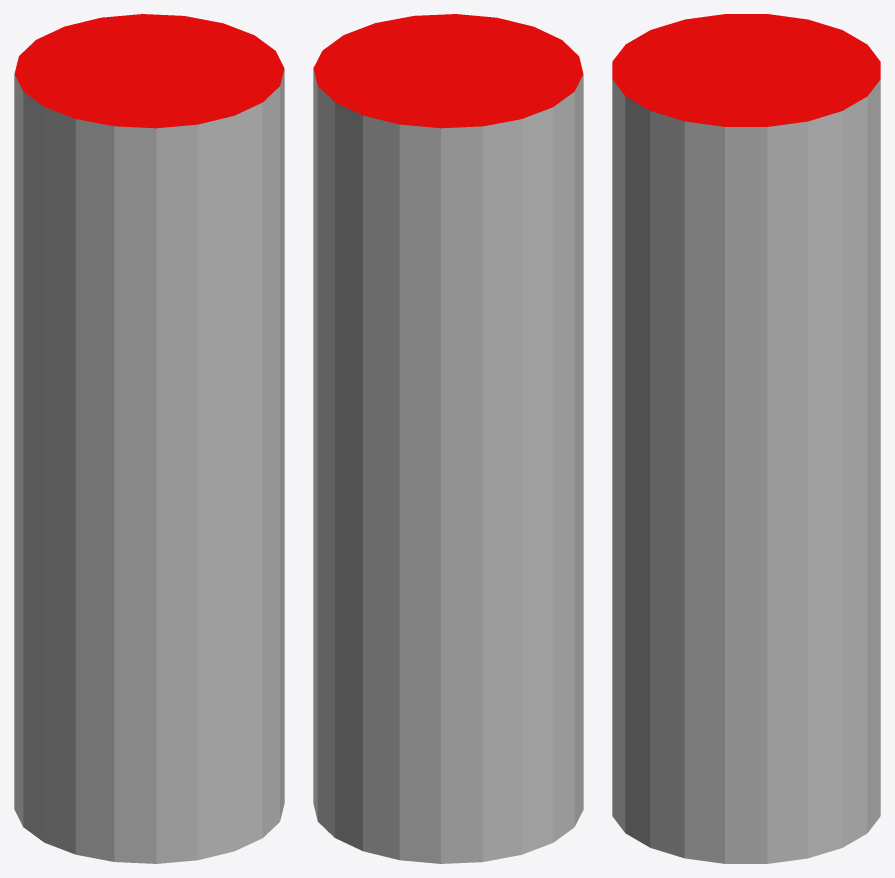
3 views of the same model, side by side, from view 1: azimuth 30°, elevation 25°; view 2: azimuth 150°, elevation 25°; view 3: azimuth 270°, elevation 25° (orthographic).
Bounding box in the file's own units: 4.93 × 15 × 4.95.
